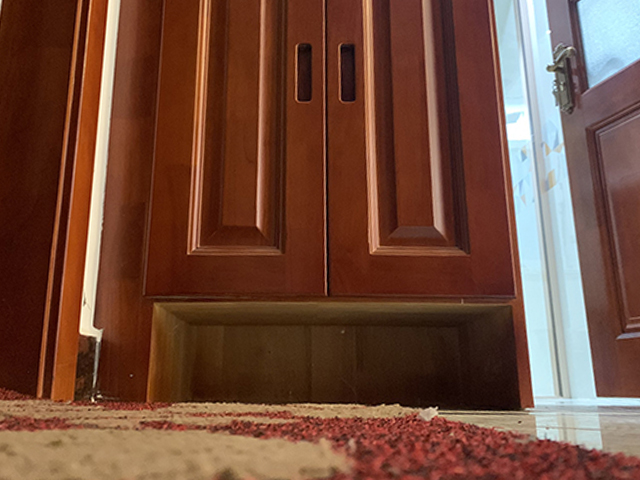cabinet: (100, 1, 534, 411)
carpet: (1, 388, 640, 480)
